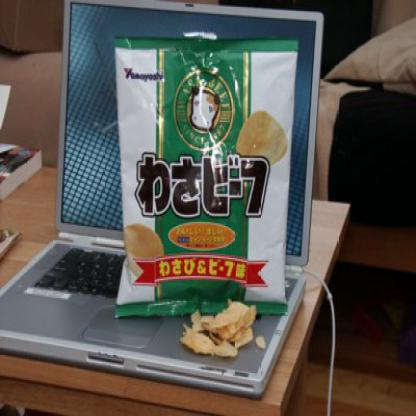potatochip: (106, 30, 303, 326)
